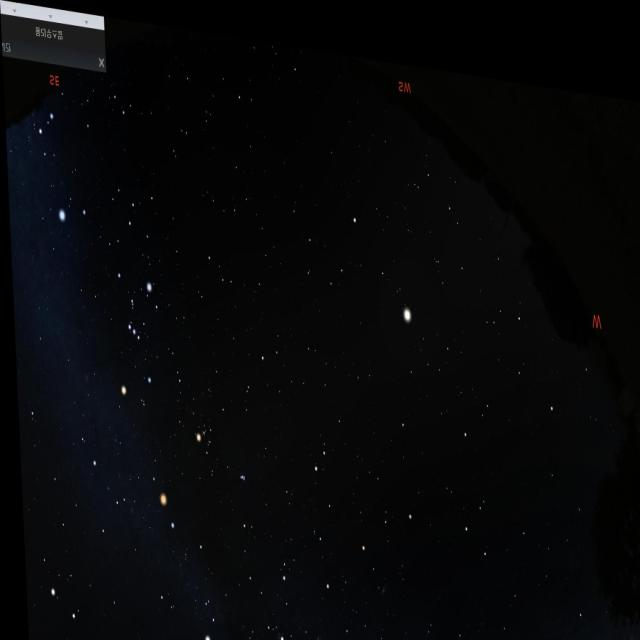canis_major: (33, 104, 88, 233)
gemini: (38, 474, 140, 640)
orion: (104, 256, 160, 406)
pleiades: (231, 459, 248, 485)
taurus: (188, 398, 249, 510)
